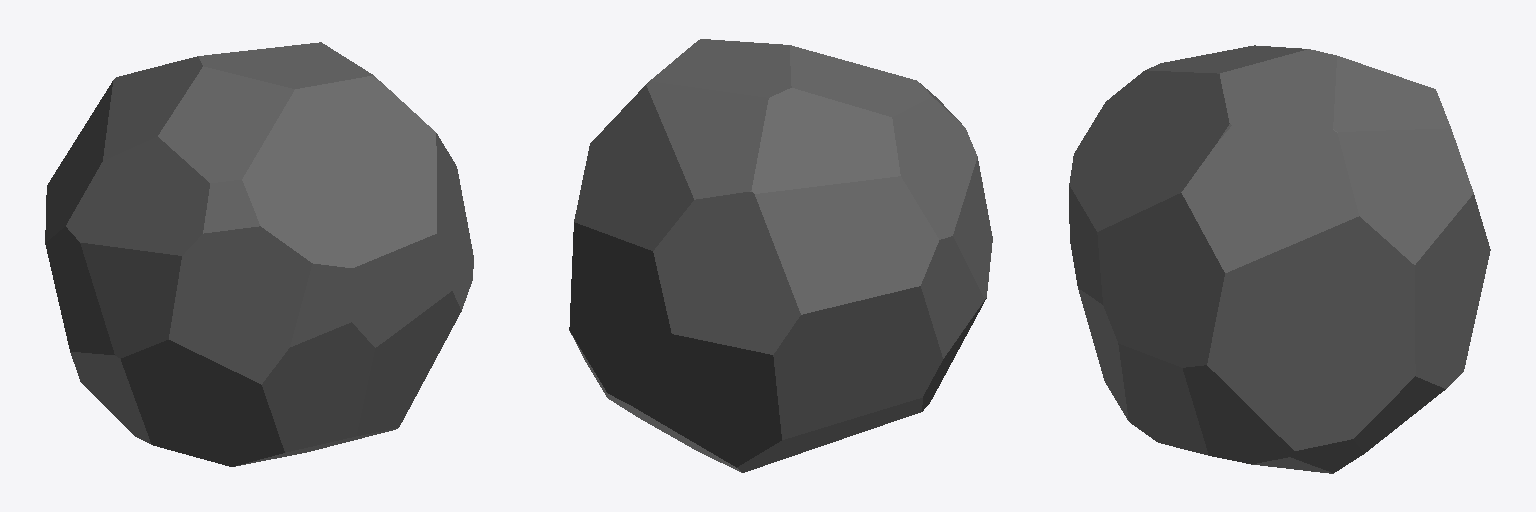
3 renders of one model, left to right at view 1: azimuth 30°, elevation 25°; view 2: azimuth 150°, elevation 25°; view 3: azimuth 270°, elevation 25°, orthographic.
Visible parts, largest first — view 1: ICO球.001; view 2: ICO球.001; view 3: ICO球.001.
Boxes of the visible parts, x1,y1,x2,y2 form: ICO球.001: [45, 42, 473, 466]; ICO球.001: [569, 39, 992, 472]; ICO球.001: [1069, 45, 1490, 473].
Bounding box in the file's own units: 3.41 × 3.38 × 3.42.
1 materials, 1 textured.